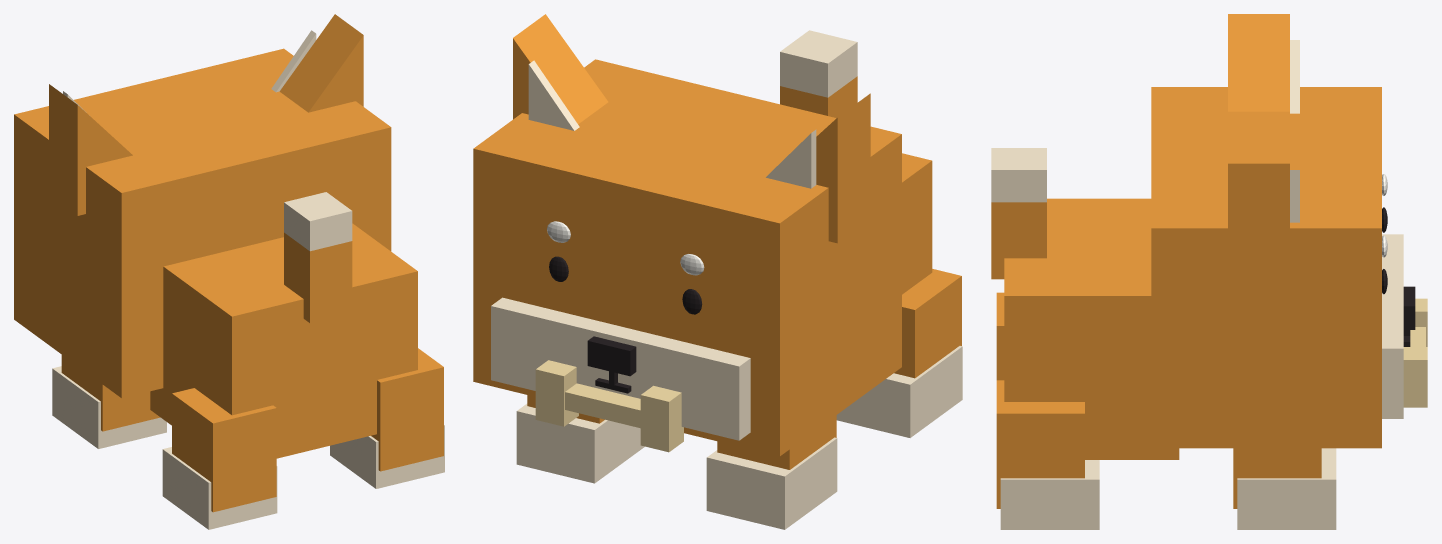
Rendered from Shiba_Block.obj.
The picture shows the model from 3 angles, left to right: view 1: azimuth 30°, elevation 25°; view 2: azimuth 150°, elevation 25°; view 3: azimuth 270°, elevation 25°; orthographic projection. The views are drawn at different scales.
Visible parts, largest first — view 1: BigHead, ShortTorso, LegBL_Leg, LegBR_Leg, EarL, EarR, TailRoot, LegBL_Paw, LegFL_Paw, TailCreamTip, LegBR_Paw, LegFL_Leg (+1 smaller); view 2: BigHead, CreamMuzzle, LegFL_Paw, LegFR_Paw, EarL, LegBL_Paw, LegBL_Leg, EarR, TailCreamTip, ShortTorso, BoneBlockEndL, BoneBlockEndR (+6 smaller); view 3: BigHead, ShortTorso, EarR, LegBR_Leg, EarL, LegFR_Paw, LegBR_Paw, CreamMuzzle, TailRoot, TailCreamTip, LegFR_Leg, BoneBlockEndR (+4 smaller).
Part boxes in pixels (x1,y1,x2,y2): BigHead: (14, 48, 391, 398); ShortTorso: (150, 223, 417, 458); LegBL_Leg: (172, 388, 276, 512); LegBR_Leg: (371, 348, 443, 471); EarL: (49, 84, 132, 215); EarR: (279, 14, 363, 112); TailRoot: (284, 232, 352, 322); LegBL_Paw: (162, 447, 277, 529); LegFL_Paw: (52, 366, 166, 448); TailCreamTip: (284, 192, 352, 251); LegBR_Paw: (330, 425, 444, 488); LegFL_Leg: (61, 355, 160, 431); BigHead: (473, 59, 901, 456); CreamMuzzle: (491, 297, 750, 440); LegFL_Paw: (706, 437, 837, 529); LegFR_Paw: (516, 403, 644, 483); EarL: (816, 93, 870, 243); LegBL_Paw: (836, 346, 962, 437); LegBL_Leg: (894, 269, 961, 378); EarR: (513, 14, 608, 124); TailCreamTip: (780, 30, 857, 97); ShortTorso: (902, 153, 932, 294); BoneBlockEndL: (640, 385, 683, 452); BoneBlockEndR: (535, 360, 578, 426); BigHead: (1151, 87, 1381, 448); ShortTorso: (1004, 198, 1179, 459); EarR: (1228, 163, 1289, 282); LegBR_Leg: (996, 380, 1084, 508); EarL: (1228, 14, 1289, 111); LegFR_Paw: (1237, 448, 1336, 529); LegBR_Paw: (1000, 460, 1099, 529); CreamMuzzle: (1382, 234, 1403, 418); TailRoot: (991, 202, 1046, 279); TailCreamTip: (991, 148, 1046, 202); LegFR_Leg: (1233, 448, 1321, 508); BoneBlockEndR: (1403, 347, 1427, 407).
Bounding box in the file's own units: 2.29 × 2.7 × 2.82.
